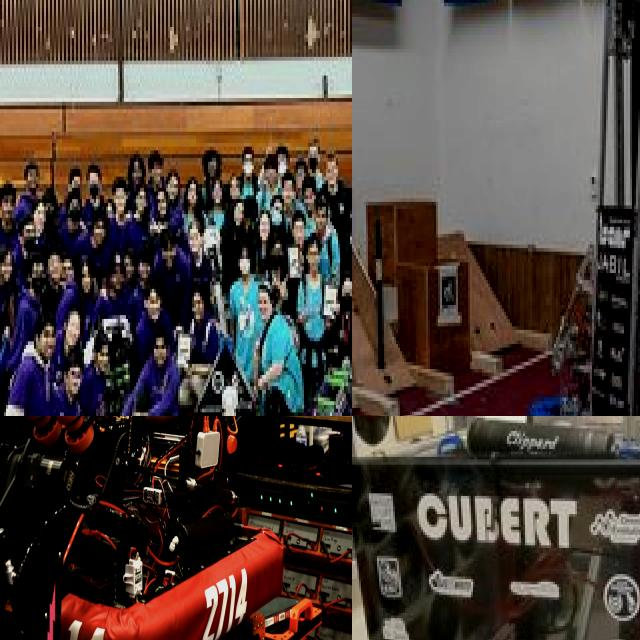FRC-Robots: (0, 416, 296, 640), (352, 416, 640, 640), (528, 0, 640, 416), (187, 359, 278, 416), (292, 374, 352, 416)
